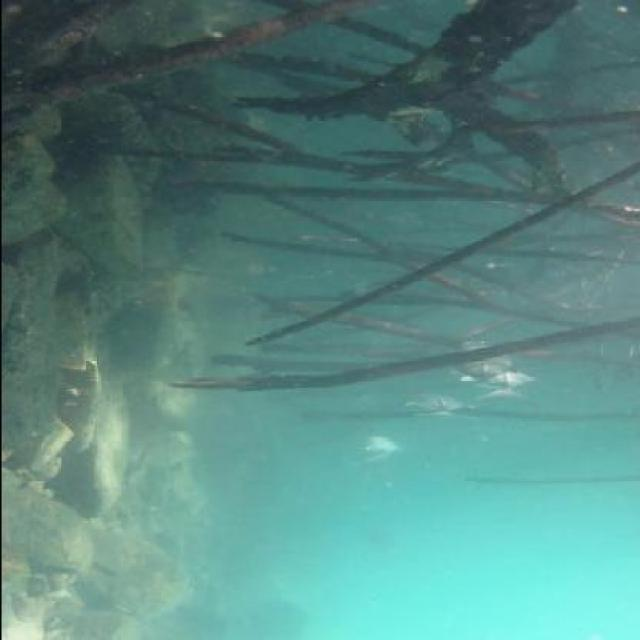Caranx_sexfasciatus_juvenile: (452, 352, 536, 406), (462, 364, 547, 402), (394, 390, 466, 424), (348, 434, 409, 468)
